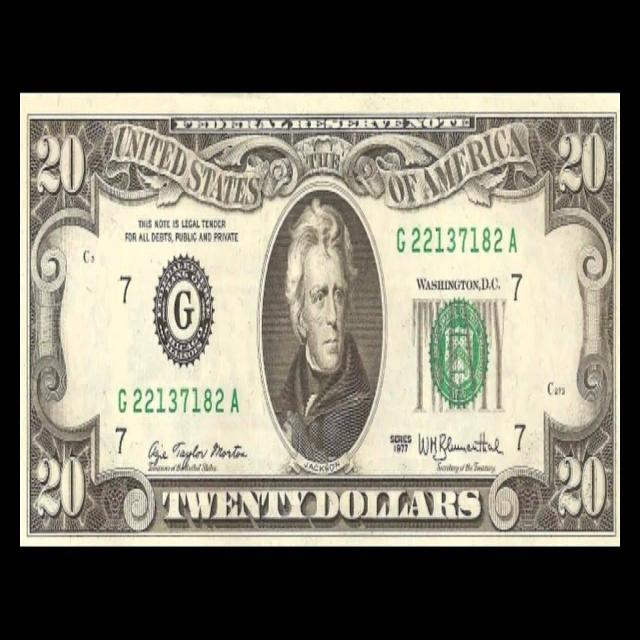20-Front: (22, 92, 624, 545)
